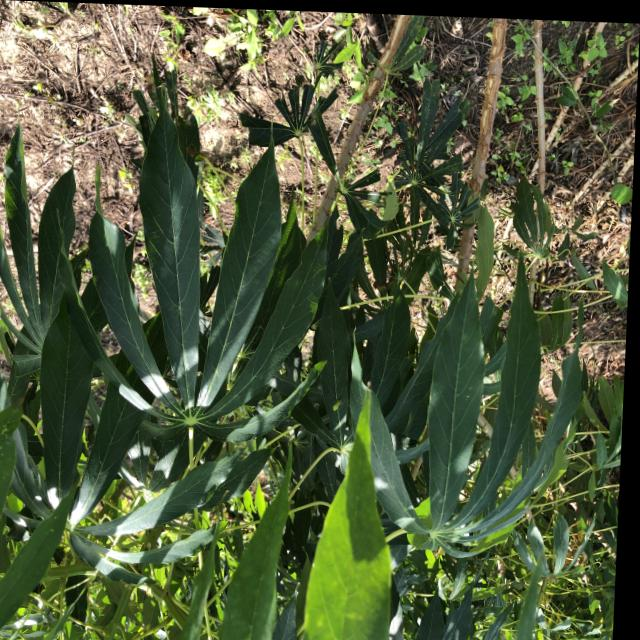Mosca: (325, 391, 347, 415), (358, 330, 375, 353), (536, 464, 550, 482)
